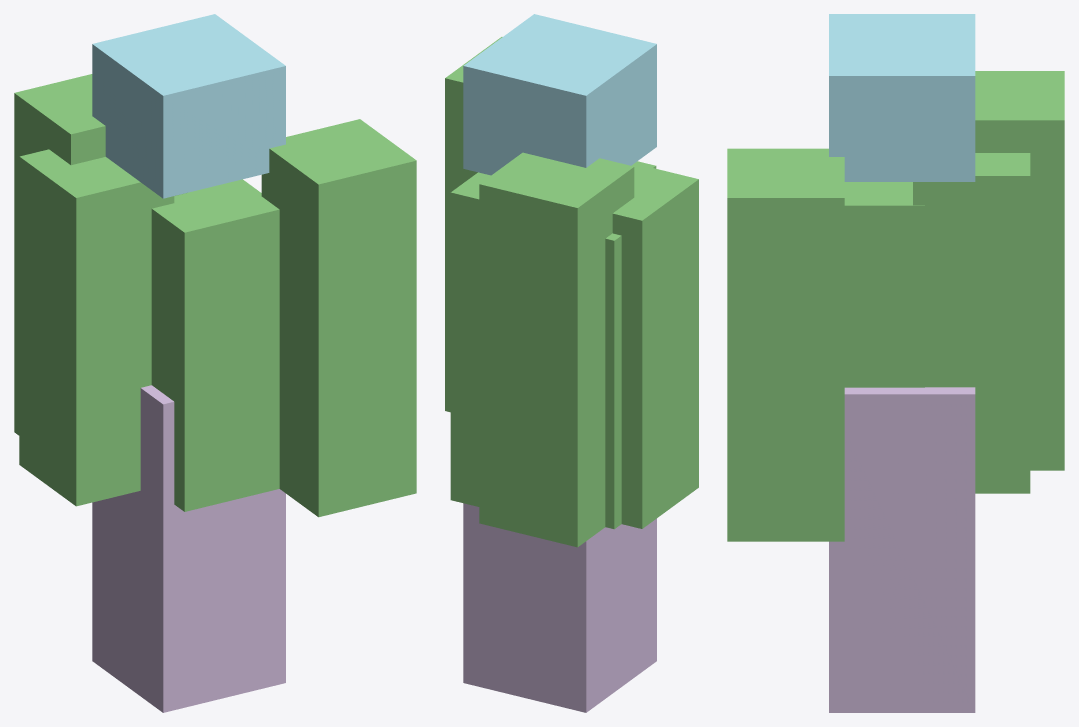
Rendered from Item_Herb_AMF_Starkibble_Bundle5.glb.
The picture shows the model from 3 angles, left to right: view 1: azimuth 30°, elevation 25°; view 2: azimuth 150°, elevation 25°; view 3: azimuth 270°, elevation 25°; orthographic projection. The views are drawn at different scales.
Parts seen in each view (by area): view 1: Item_Herb_AMF_Starkibble_Bundle5; view 2: Item_Herb_AMF_Starkibble_Bundle5; view 3: Item_Herb_AMF_Starkibble_Bundle5.
Part boxes in pixels (box(x1,y1,x2,y2)): Item_Herb_AMF_Starkibble_Bundle5: box(14, 14, 416, 712); Item_Herb_AMF_Starkibble_Bundle5: box(445, 14, 698, 712); Item_Herb_AMF_Starkibble_Bundle5: box(727, 14, 1064, 712).
Bounding box in the file's own units: 0.1094 × 0.24 × 0.1152.
